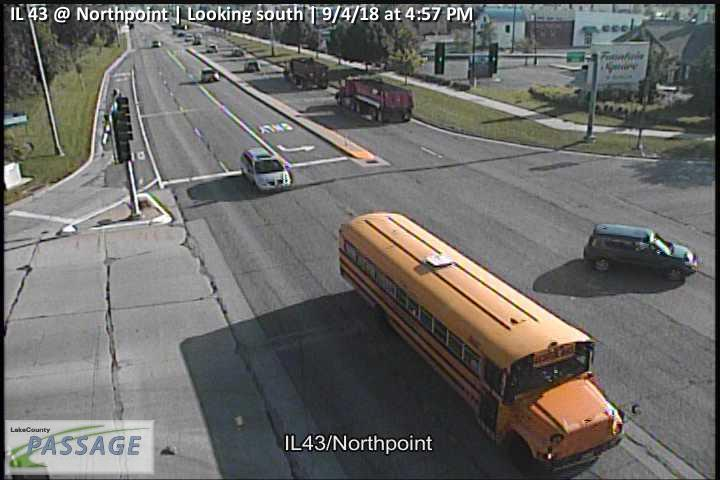Bus: (336, 210, 624, 478)
SUV: (583, 221, 697, 281), (240, 148, 291, 192), (244, 59, 260, 72)
Sedan: (200, 68, 219, 82)
Truck: (335, 77, 414, 125), (283, 57, 329, 91)
